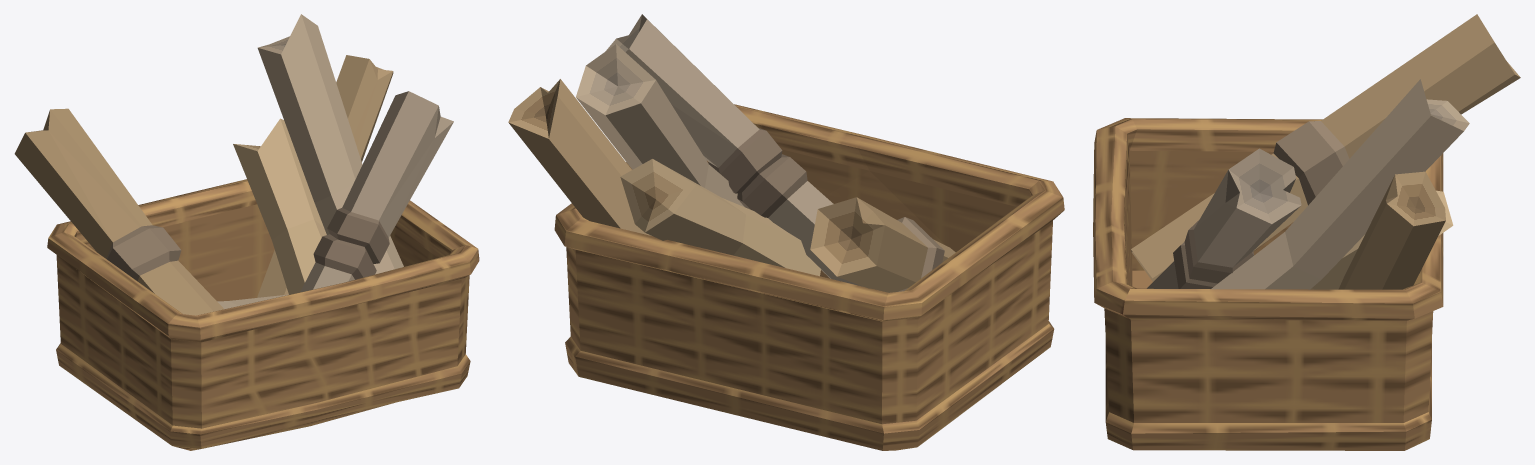
The model's file is SM_Prop_Scroll_Basket_01.fbx.
3 renders of one model, left to right at view 1: azimuth 30°, elevation 25°; view 2: azimuth 150°, elevation 25°; view 3: azimuth 270°, elevation 25°, orthographic. The views are drawn at different scales.
Visible parts, largest first — view 1: SM_Prop_Scroll_Basket_01; view 2: SM_Prop_Scroll_Basket_01; view 3: SM_Prop_Scroll_Basket_01.
Boxes of the visible parts, left/top/right/bottom form: SM_Prop_Scroll_Basket_01: left=14, top=14, right=479, bottom=450; SM_Prop_Scroll_Basket_01: left=508, top=14, right=1064, bottom=450; SM_Prop_Scroll_Basket_01: left=1093, top=14, right=1520, bottom=450.
Bounding box in the file's own units: 78.43 × 63.78 × 69.92.
